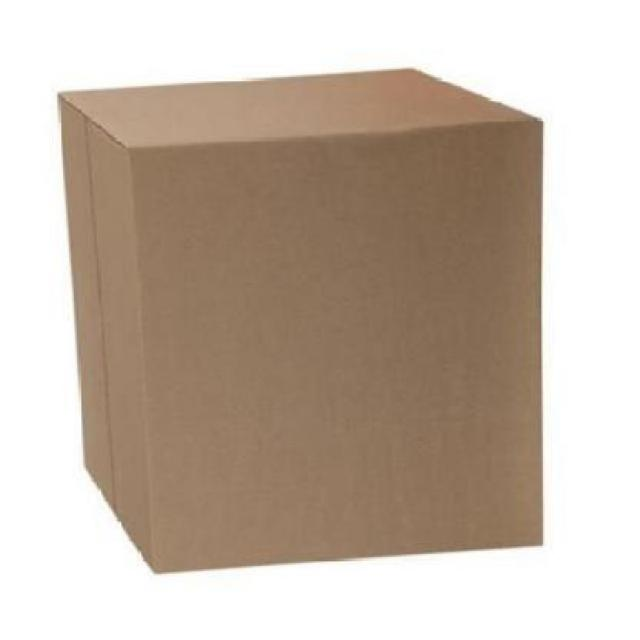box: (49, 56, 568, 582)
